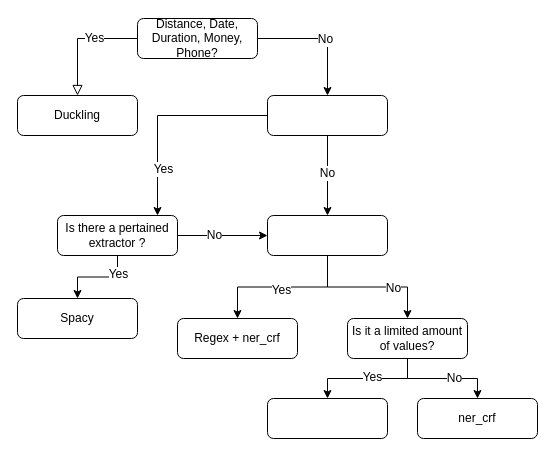
Image size: 555x456. Some labels were removed from this diagram. The centre of each missing label's shape, as x and y in pixels:
"Any pattern?" goes at point (327, 235).
"Lookup Tables + ner_crf" goes at point (327, 418).
"Organization or Place?" goes at point (327, 115).
